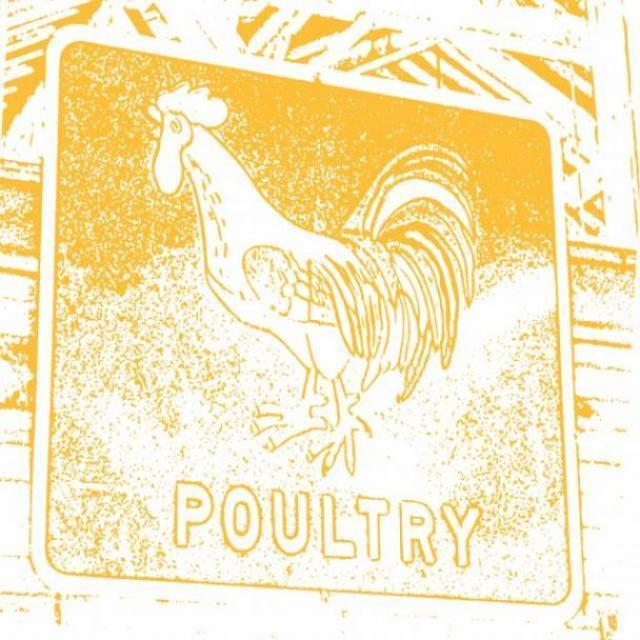Chicken: (152, 89, 496, 443)
